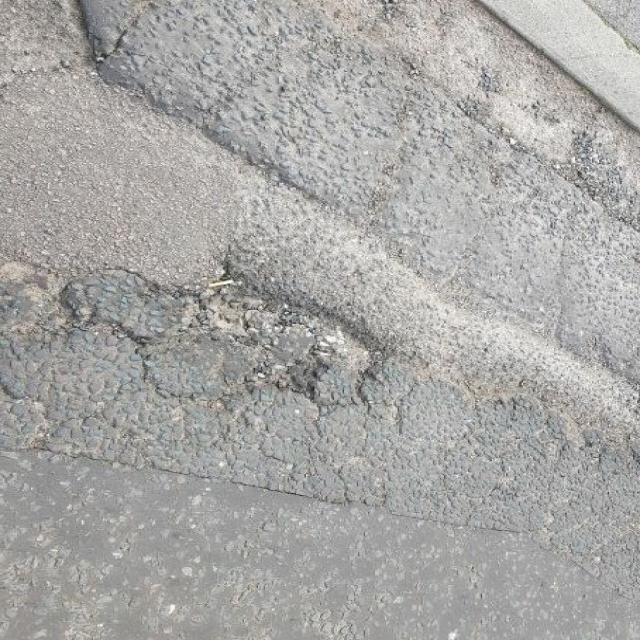pothole: (90, 261, 388, 418), (2, 0, 142, 126)
